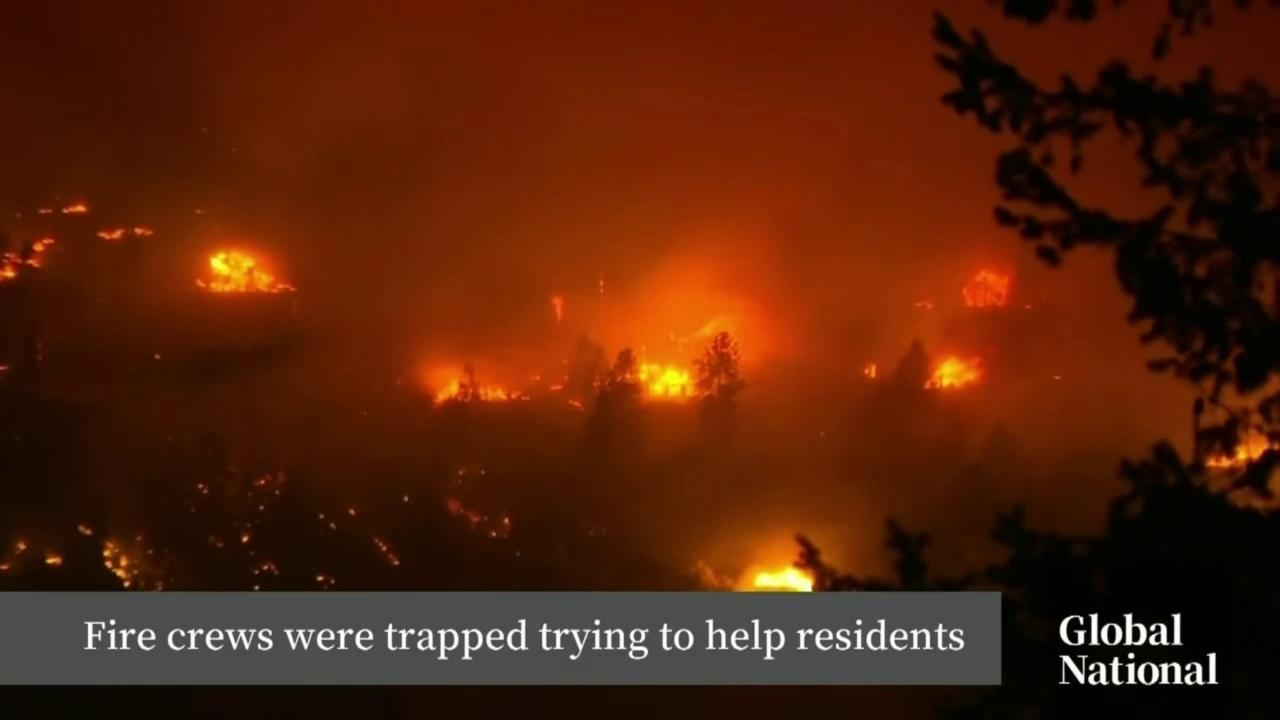fire: (192, 246, 301, 299), (664, 308, 750, 349), (430, 374, 533, 408), (1197, 431, 1280, 471), (0, 232, 62, 284), (917, 351, 988, 393), (958, 264, 1015, 312), (634, 359, 703, 397), (747, 558, 820, 591), (99, 537, 138, 589), (445, 495, 483, 530), (95, 226, 156, 242), (548, 291, 567, 322), (60, 200, 90, 219), (861, 360, 879, 379), (43, 556, 64, 570), (370, 536, 387, 552), (253, 473, 273, 486), (263, 562, 280, 576), (387, 552, 402, 567), (567, 398, 585, 410), (15, 541, 28, 555), (198, 482, 212, 495), (0, 361, 13, 373), (548, 385, 565, 392), (348, 507, 358, 516), (0, 565, 12, 572), (315, 575, 327, 582), (503, 517, 511, 525), (490, 532, 498, 540), (241, 536, 250, 543), (254, 584, 262, 591), (253, 568, 259, 576), (319, 513, 325, 521), (404, 495, 410, 503)
